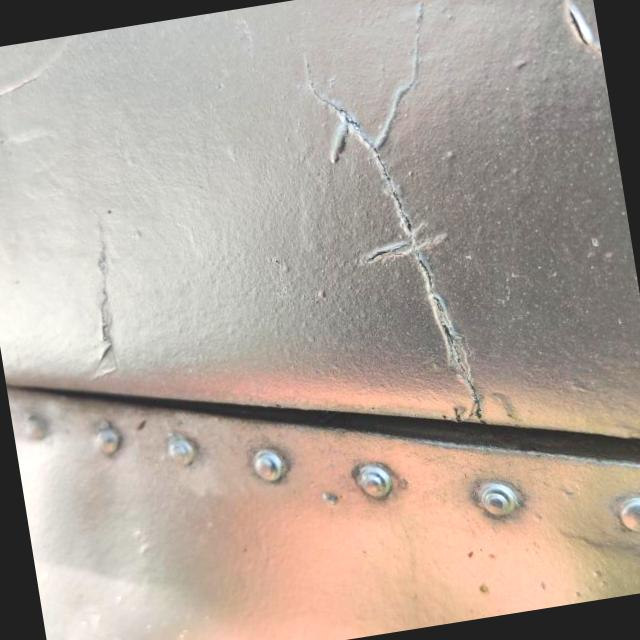crack: (264, 13, 531, 468)
